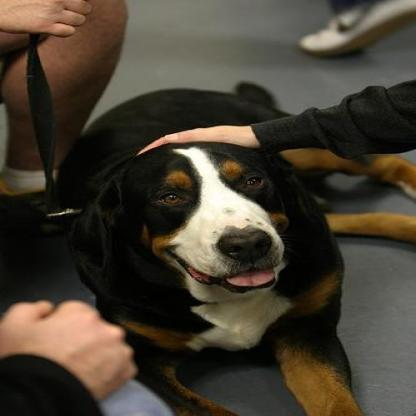Greater_Swiss_Mountain_dog: (49, 78, 412, 414)
